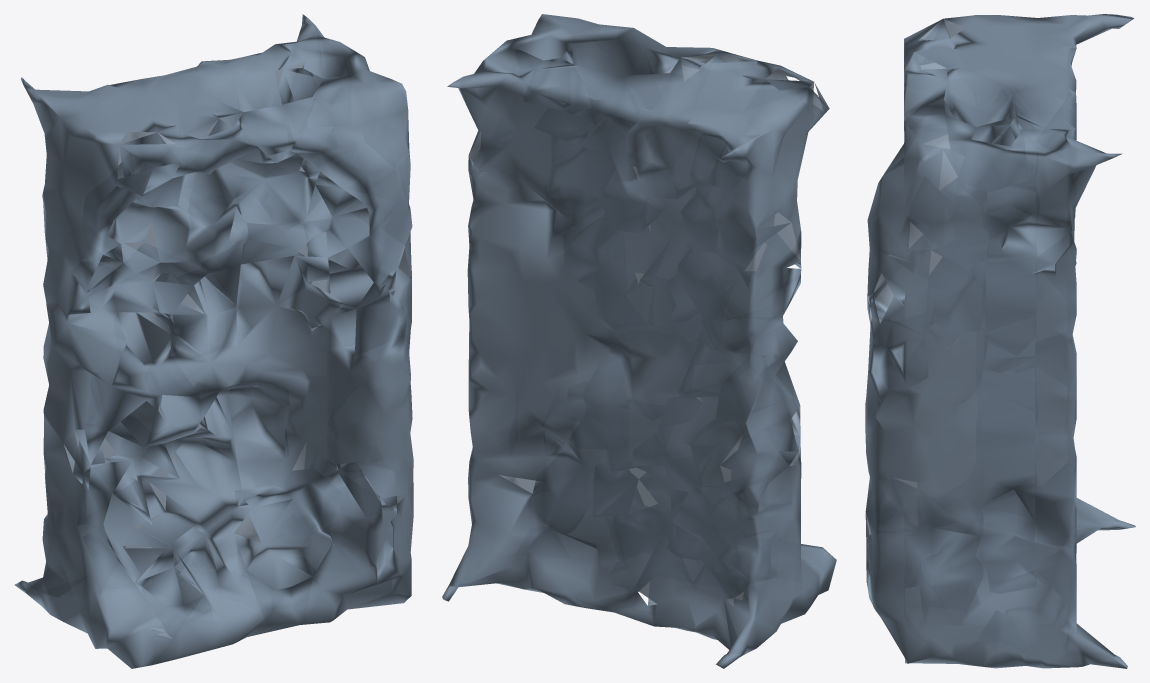
The model's file is sofa_0334_original.obj.
The picture shows the model from 3 angles, left to right: view 1: azimuth 30°, elevation 25°; view 2: azimuth 150°, elevation 25°; view 3: azimuth 270°, elevation 25°; orthographic projection.
Size of the model in its own units: 0.9061 by 1.54 by 0.73.
